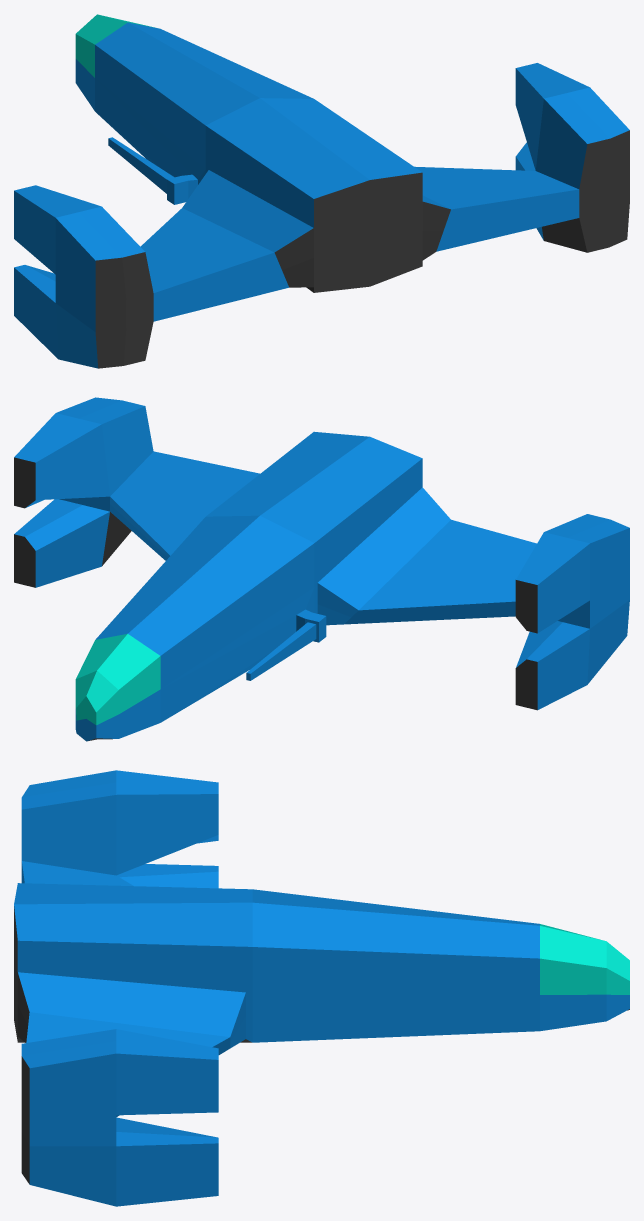
Rendered from ship1.glb.
3 renders of one model, top to bottom at view 1: azimuth 30°, elevation 25°; view 2: azimuth 150°, elevation 25°; view 3: azimuth 270°, elevation 25°, orthographic. The views are drawn at different scales.
Parts seen in each view (by area): view 1: Cube; view 2: Cube; view 3: Cube.
Part boxes in pixels (<box>): Cube: <box>14,14,629,368</box>; Cube: <box>14,397,629,741</box>; Cube: <box>14,770,629,1206</box>.
Bounding box in the file's own units: 19.65 × 5.3 × 18.06.
